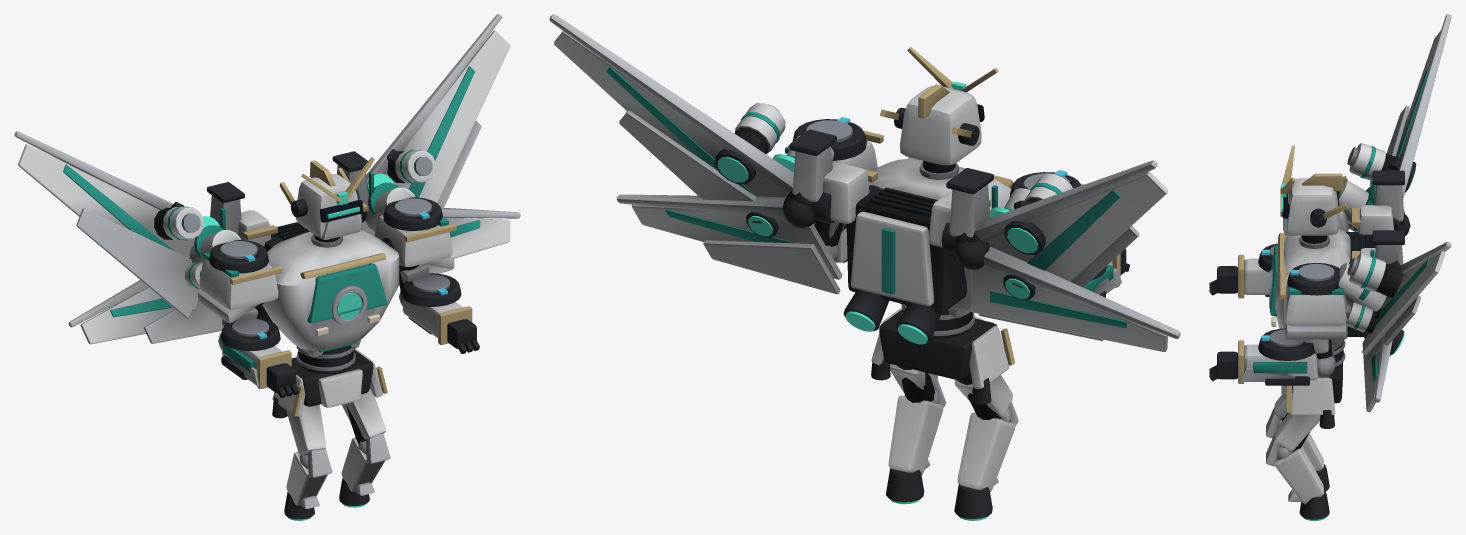
Rendered from ex_seraph_6.glb.
3 renders of one model, left to right at view 1: azimuth 30°, elevation 25°; view 2: azimuth 150°, elevation 25°; view 3: azimuth 270°, elevation 25°, orthographic. The views are drawn at different scales.
Visible parts, largest first — view 1: body, flap_4, flap_0, flap_5, flap_1; view 2: body, flap_0, flap_4, flap_1, flap_5; view 3: body, flap_0, flap_4, flap_1.
Boxes of the visible parts, bbox=[...] form: body: bbox=[189, 151, 479, 520]; flap_4: bbox=[14, 131, 203, 318]; flap_0: bbox=[366, 14, 510, 208]; flap_5: bbox=[68, 258, 223, 344]; flap_1: bbox=[362, 207, 520, 285]; body: bbox=[772, 47, 1129, 520]; flap_0: bbox=[549, 14, 814, 206]; flap_4: bbox=[954, 160, 1168, 287]; flap_1: bbox=[616, 194, 842, 294]; flap_5: bbox=[953, 241, 1180, 351]; body: bbox=[1209, 145, 1404, 520]; flap_0: bbox=[1347, 242, 1451, 365]; flap_4: bbox=[1347, 14, 1451, 223]; flap_1: bbox=[1346, 302, 1392, 412].
Bounding box in the file's own units: 9.21 × 6.91 × 4.05.
